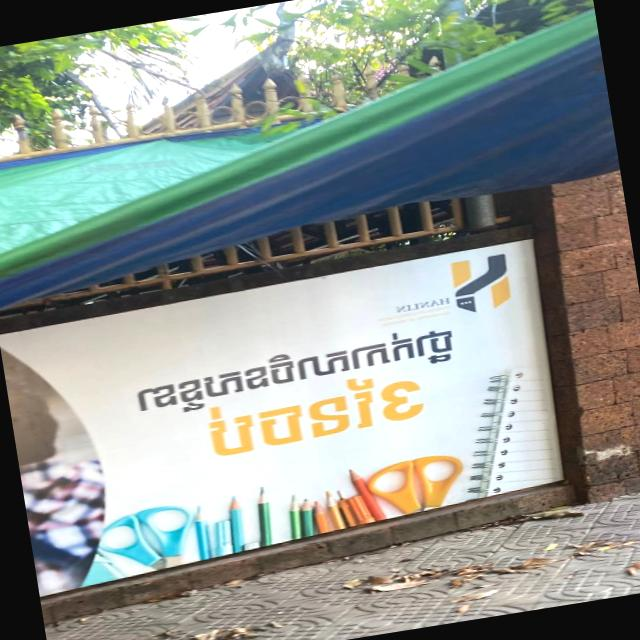704: (190, 369, 435, 464)
Yolov11_80vkh: (128, 316, 461, 425)
